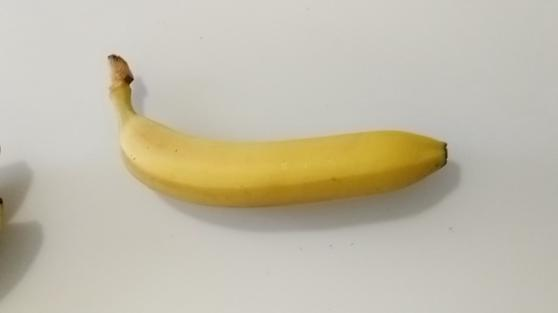banana: (107, 48, 453, 208)
